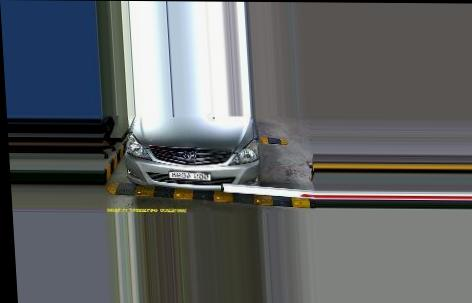License_Plate: (169, 170, 211, 182)
